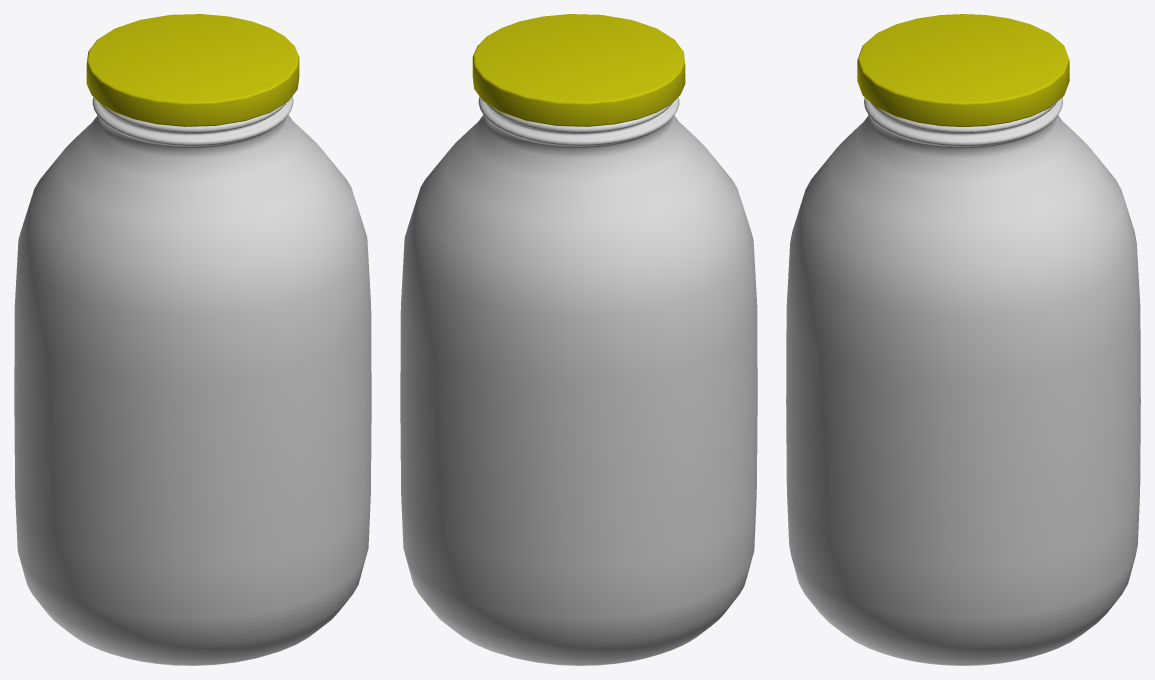
The model's file is 3L Bottle (2).fbx.
The picture shows the model from 3 angles, left to right: view 1: azimuth 30°, elevation 25°; view 2: azimuth 150°, elevation 25°; view 3: azimuth 270°, elevation 25°; orthographic projection.
Parts seen in each view (by area): view 1: Cylinder, Cylinder.001; view 2: Cylinder, Cylinder.001; view 3: Cylinder, Cylinder.001.
Part boxes in pixels (x1,y1,x2,y2): Cylinder: [14, 96, 371, 665]; Cylinder.001: [86, 14, 299, 126]; Cylinder: [400, 96, 757, 665]; Cylinder.001: [472, 14, 685, 126]; Cylinder: [786, 97, 1140, 665]; Cylinder.001: [857, 14, 1069, 127].
Bounding box in the file's own units: 15.34 × 26.21 × 15.2.
